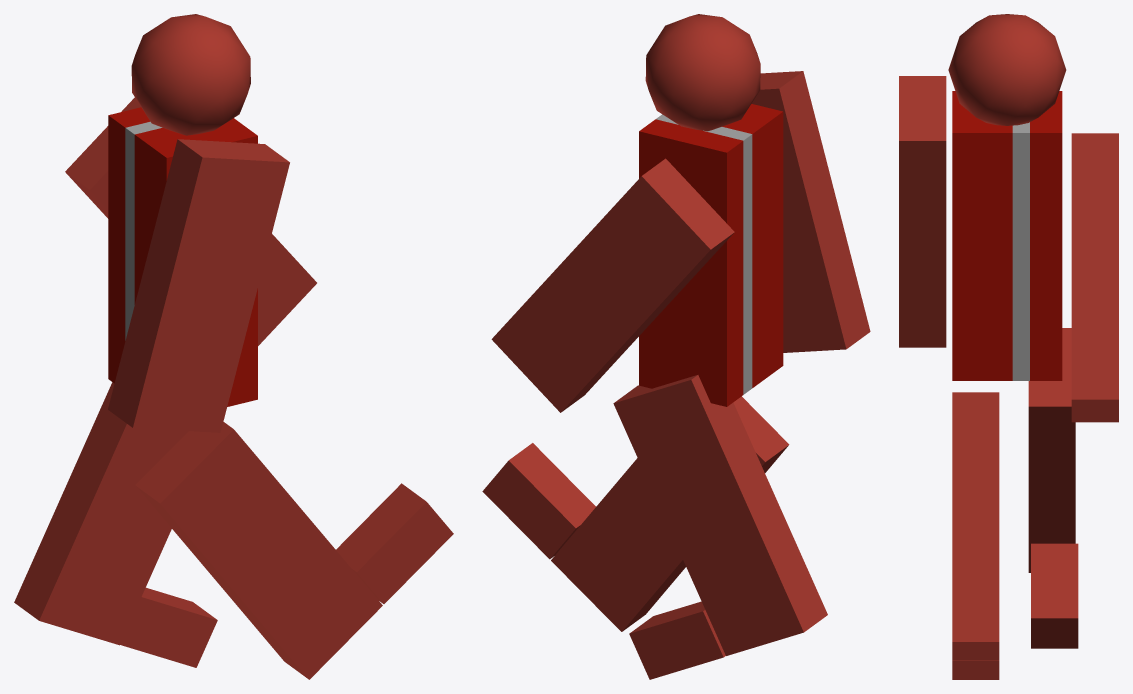
The model's file is player_000023.obj.
The picture shows the model from 3 angles, left to right: view 1: azimuth 30°, elevation 25°; view 2: azimuth 150°, elevation 25°; view 3: azimuth 270°, elevation 25°; orthographic projection. The views are drawn at different scales.
Visible parts, largest first — view 1: Cube.013, Cube.010, Cube.008, Cube.007, Icosphere.001, Cube.011, Cube.012, Cube.009; view 2: Cube.008, Cube.007, Cube.012, Cube.013, Cube.010, Icosphere.001, Cube.011, Cube.009; view 3: Cube.007, Cube.012, Cube.013, Cube.010, Icosphere.001, Cube.008, Cube.009, Cube.011.
Part boxes in pixels (x1=…): Cube.013: x1=108, y1=139, x2=289, y2=432; Cube.010: x1=135, y1=422, x2=382, y2=679; Cube.008: x1=14, y1=382, x2=188, y2=645; Cube.007: x1=108, y1=107, x2=257, y2=406; Icosphere.001: x1=131, y1=14, x2=250, y2=135; Cube.011: x1=336, y1=483, x2=453, y2=603; Cube.012: x1=65, y1=97, x2=316, y2=345; Cube.009: x1=120, y1=587, x2=217, y2=667; Cube.008: x1=613, y1=375, x2=827, y2=655; Cube.007: x1=639, y1=104, x2=783, y2=406; Cube.012: x1=491, y1=158, x2=734, y2=412; Cube.013: x1=751, y1=71, x2=870, y2=352; Cube.010: x1=551, y1=396, x2=789, y2=631; Icosphere.001: x1=645, y1=14, x2=760, y2=131; Cube.011: x1=482, y1=443, x2=595, y2=559; Cube.009: x1=629, y1=601, x2=725, y2=679; Cube.007: x1=952, y1=91, x2=1062, y2=380; Cube.012: x1=1071, y1=133, x2=1118, y2=422; Cube.013: x1=899, y1=76, x2=946, y2=347; Cube.010: x1=952, y1=392, x2=999, y2=679; Icosphere.001: x1=948, y1=14, x2=1066, y2=125; Cube.008: x1=1028, y1=328, x2=1075, y2=572; Cube.009: x1=1031, y1=543, x2=1078, y2=648; Cube.011: x1=952, y1=593, x2=999, y2=660.
Size of the model in its own units: 1.69 by 2.86 by 0.9137.
